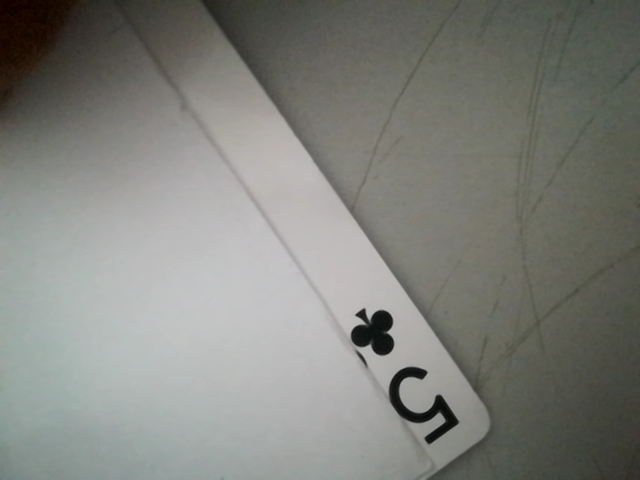mh 5: (337, 299, 477, 459)
